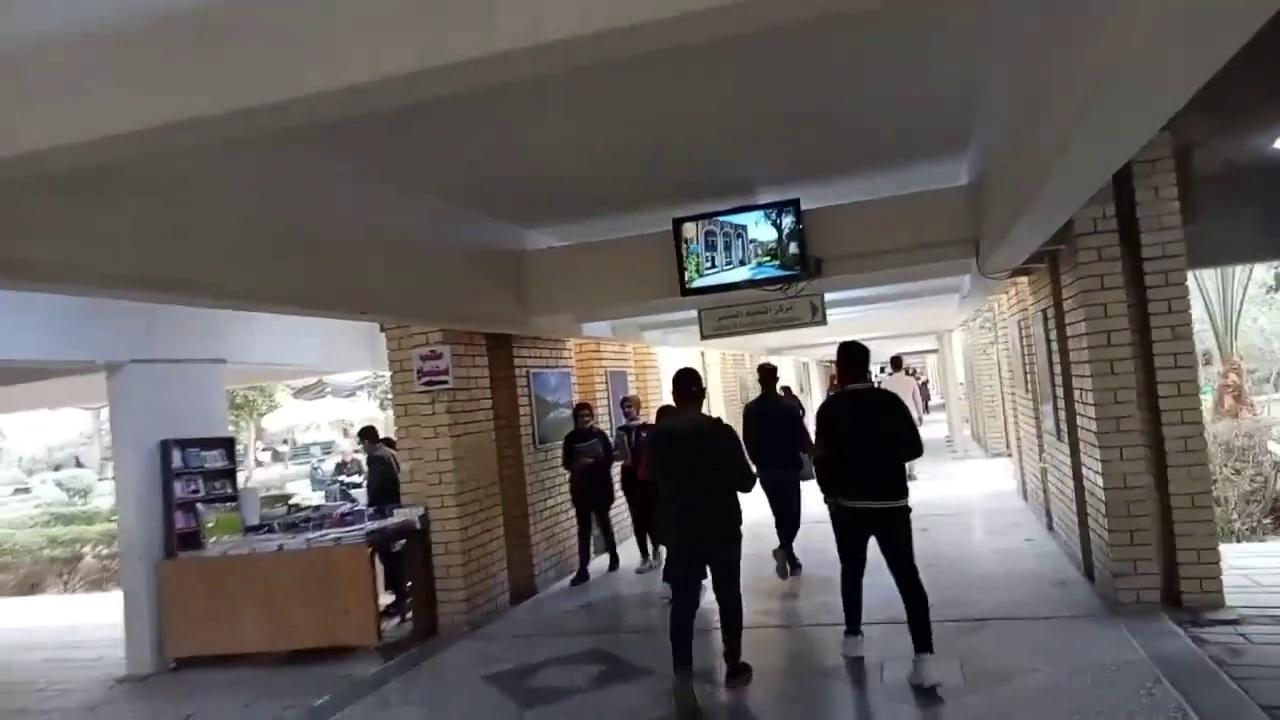person: (812, 339, 943, 689), (638, 366, 756, 687), (742, 362, 815, 580), (561, 401, 619, 586), (356, 424, 411, 619), (613, 393, 662, 573), (880, 354, 924, 481), (332, 444, 364, 478), (779, 385, 805, 418)
tree: (1187, 261, 1278, 542), (1190, 262, 1258, 419), (225, 381, 281, 475)
